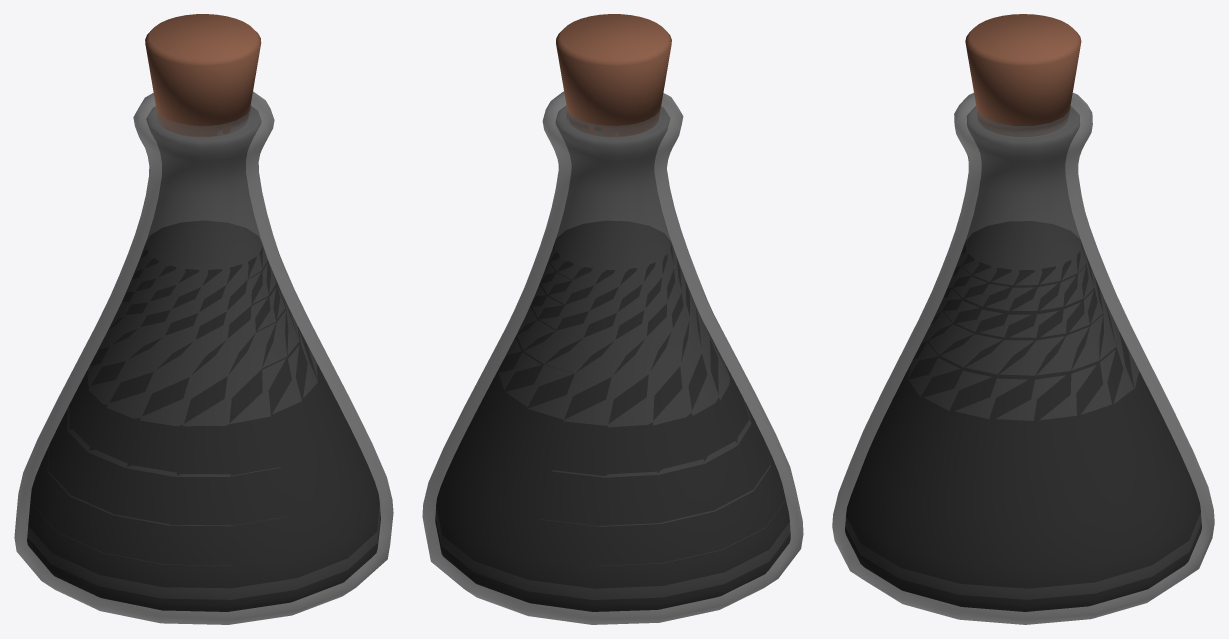
The model's file is potionWrong2.fbx.
The picture shows the model from 3 angles, left to right: view 1: azimuth 30°, elevation 25°; view 2: azimuth 150°, elevation 25°; view 3: azimuth 270°, elevation 25°; orthographic projection.
Parts seen in each view (by area): view 1: potion1.002; view 2: potion1.002; view 3: potion1.002.
Part boxes in pixels (x1,y1,x2,y2): potion1.002: [14, 14, 393, 624]; potion1.002: [422, 14, 803, 624]; potion1.002: [832, 14, 1214, 624].
Size of the model in its own units: 38.54 by 58.47 by 38.54.
